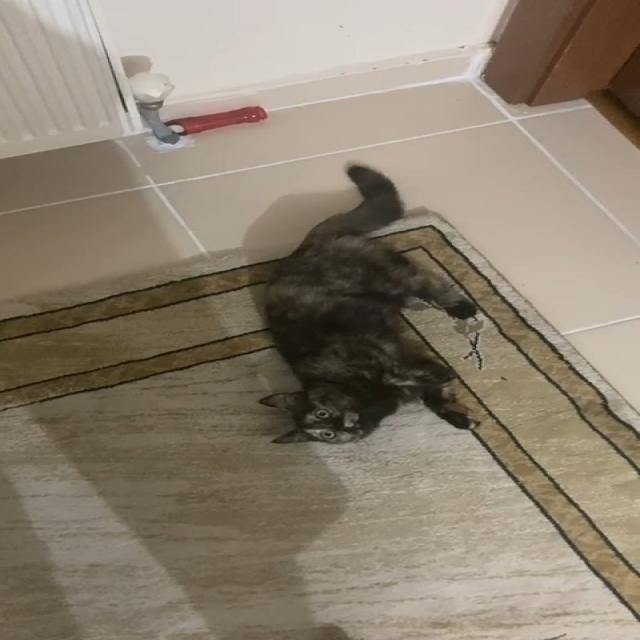authorized: (255, 160, 482, 445)
